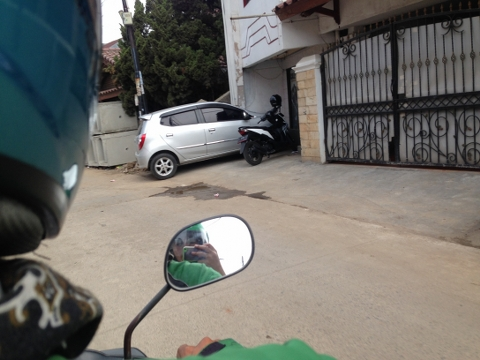mobil: (135, 101, 272, 180)
